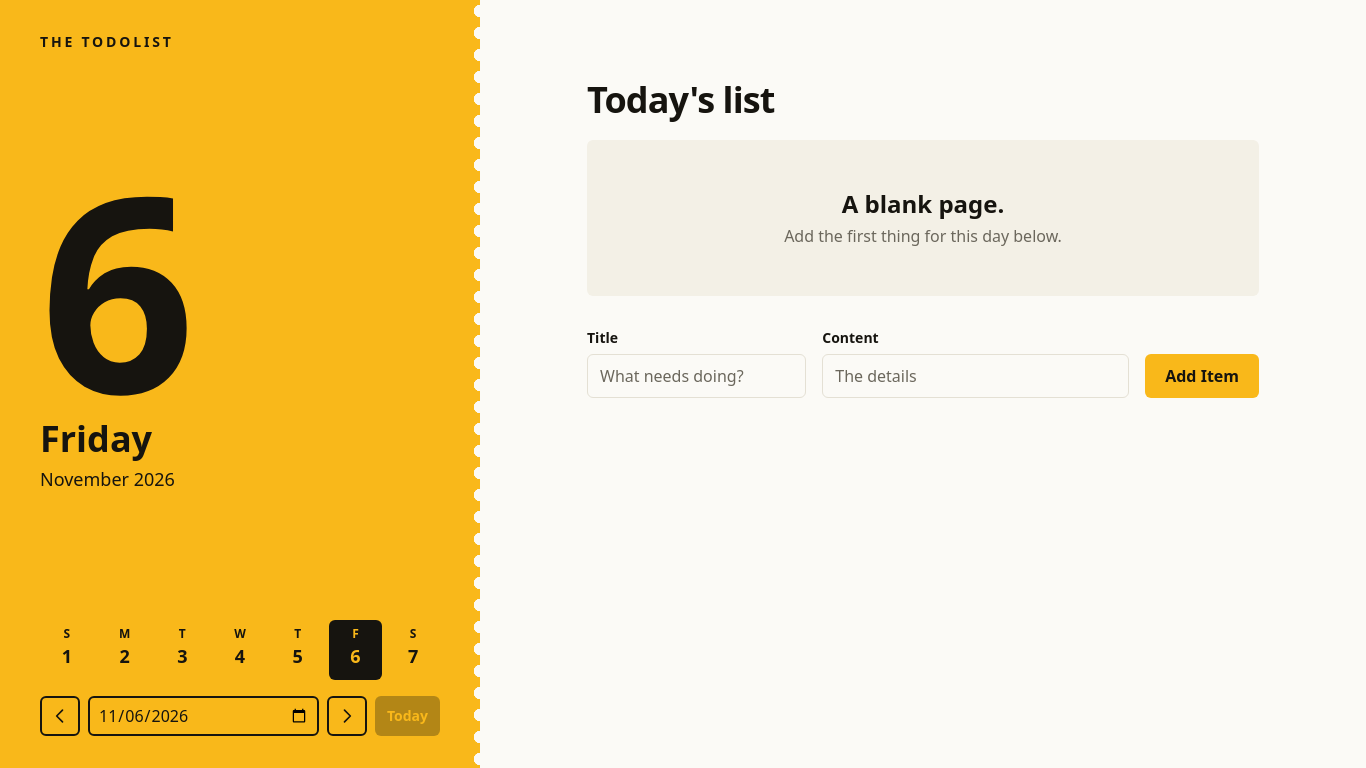
DateSelector › at 8pm on Nov 5 in New York › counts the finished items for the day
The width and height of the screenshot is (1366, 768).
Type "Milk" into the field labelled "Title" at (697,376), box [587, 354, 806, 398]
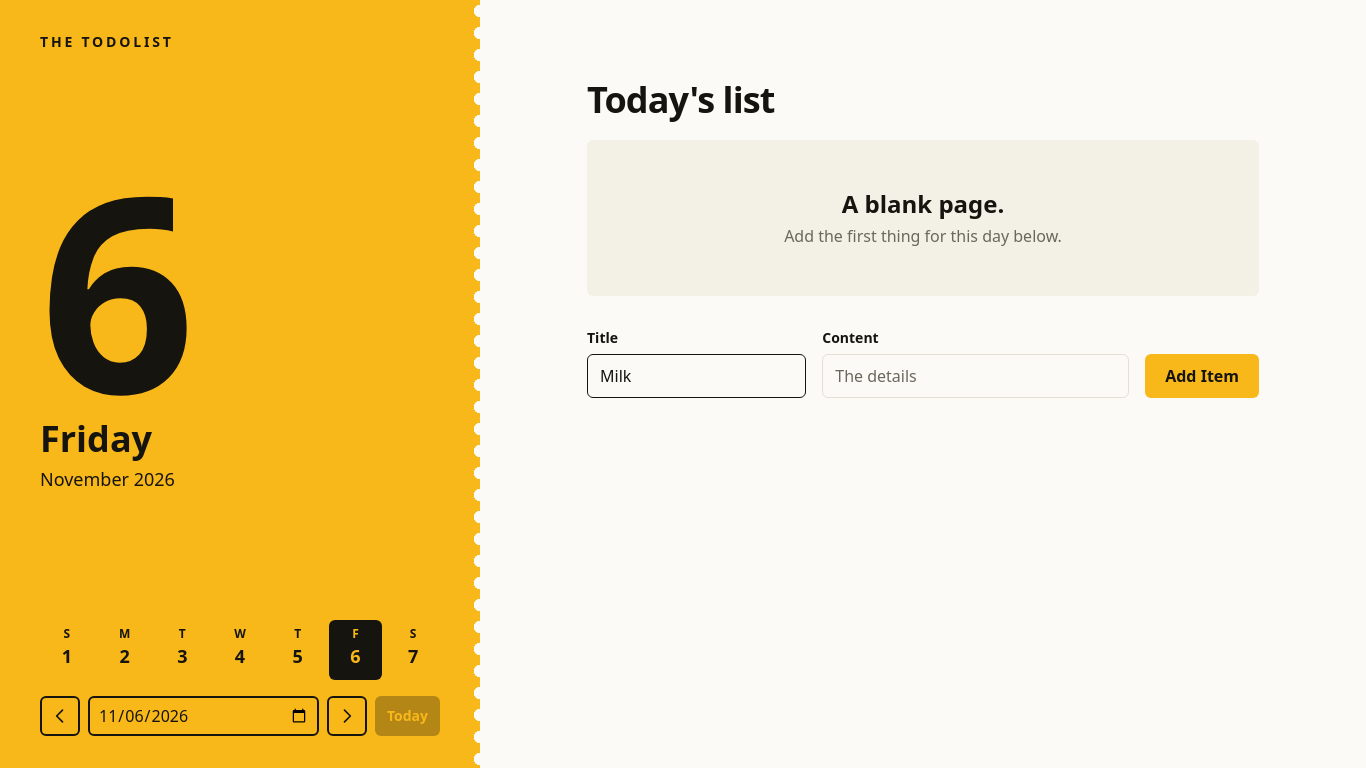
Type "Buy 2%" into the field labelled "Content" at (976,376), box [822, 354, 1129, 398]
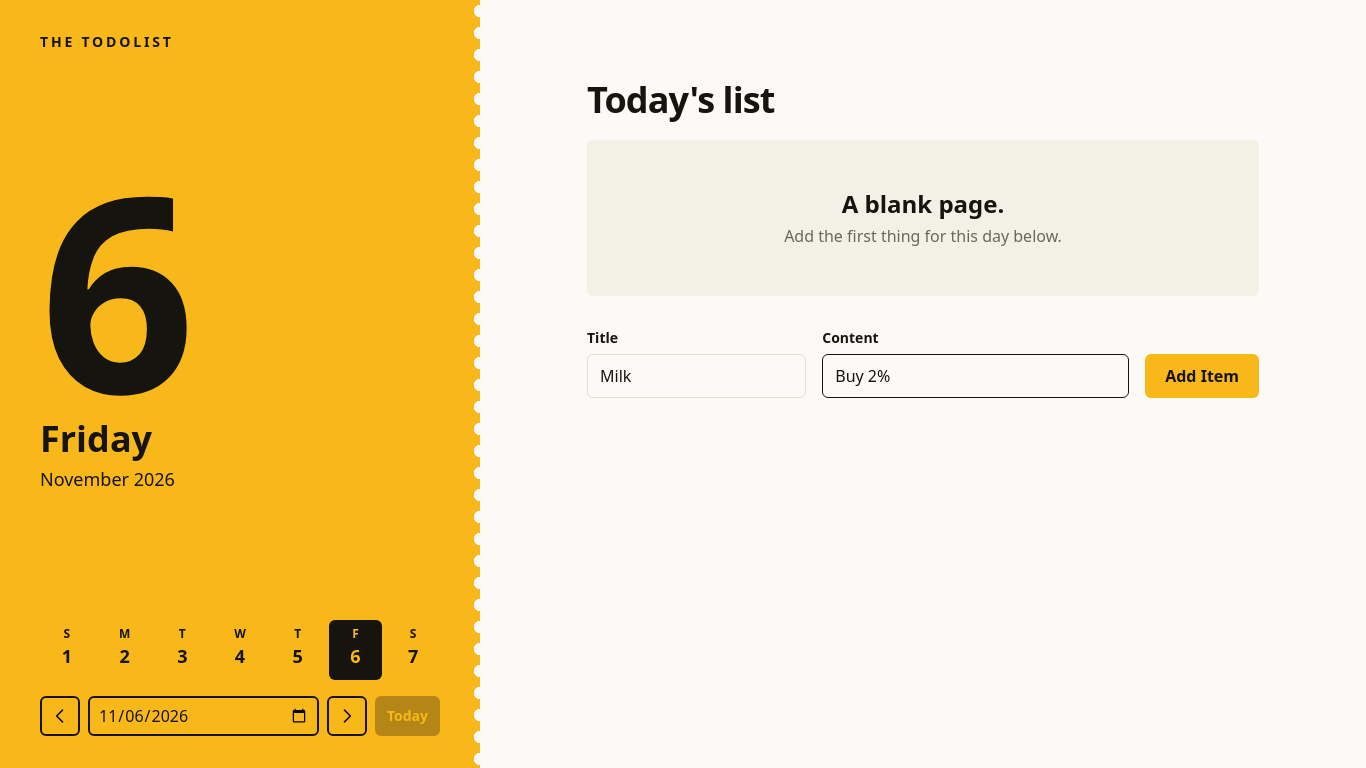
Click the button "Add Item" at (1202,376), box [1145, 354, 1259, 398]
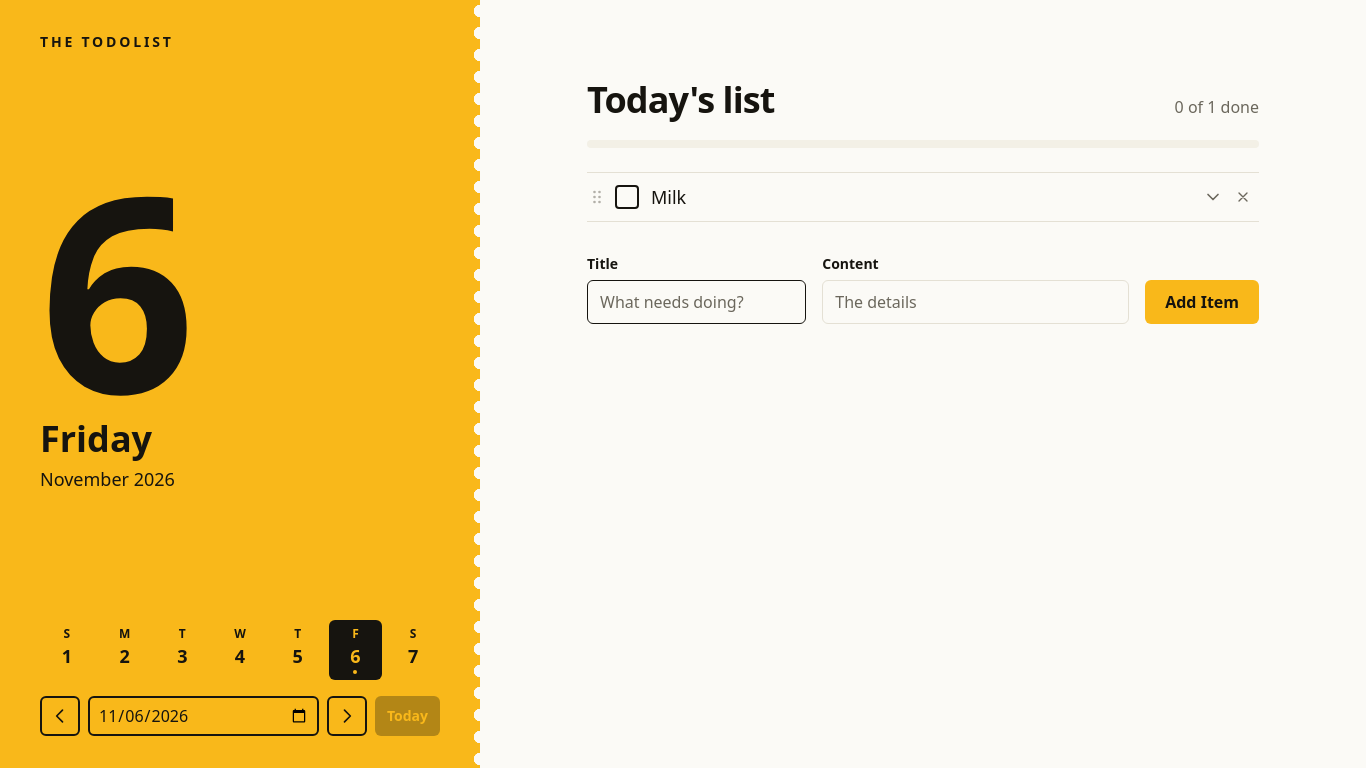
Now the text "0 of 1 done" is shown, box [1175, 95, 1259, 119]
Click the checkbox at (627,197), box [615, 185, 639, 209]
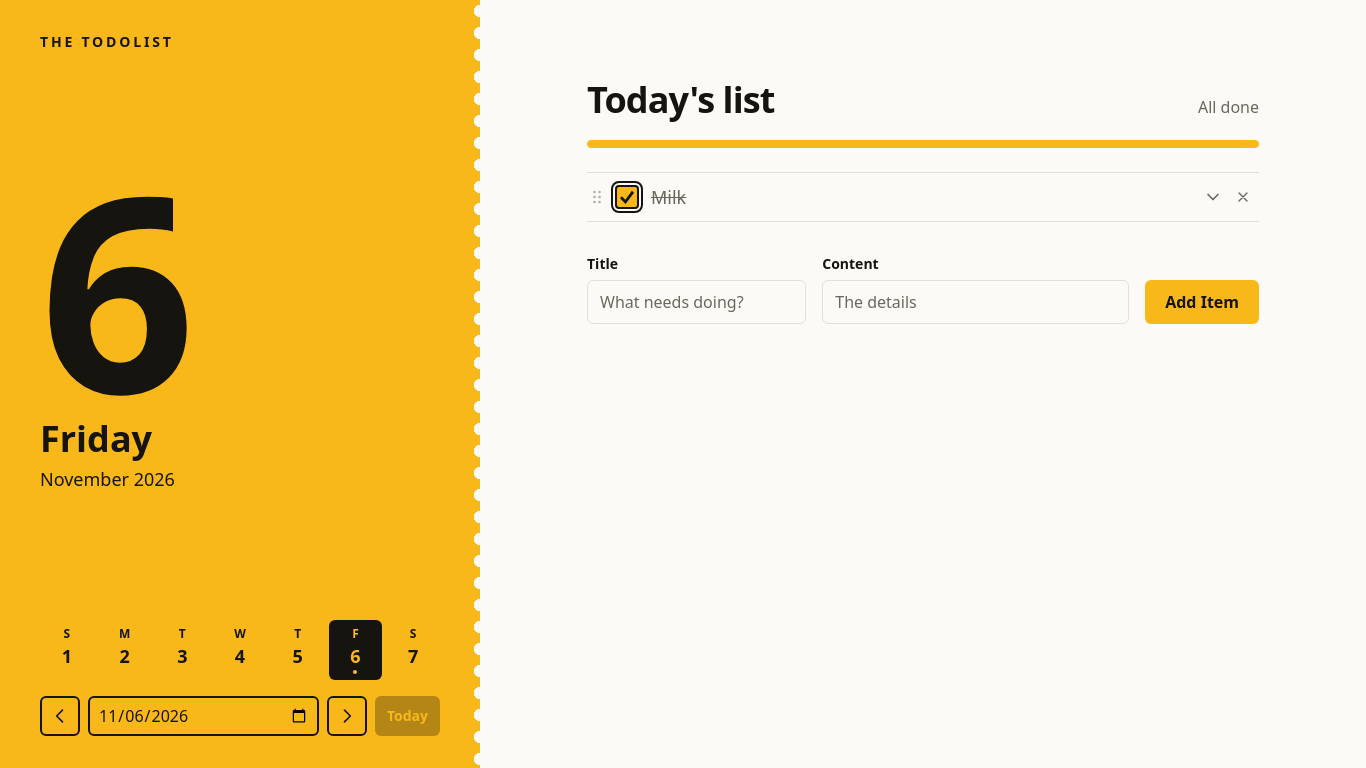
Now the text "All done" is shown, box [1198, 95, 1259, 119]
